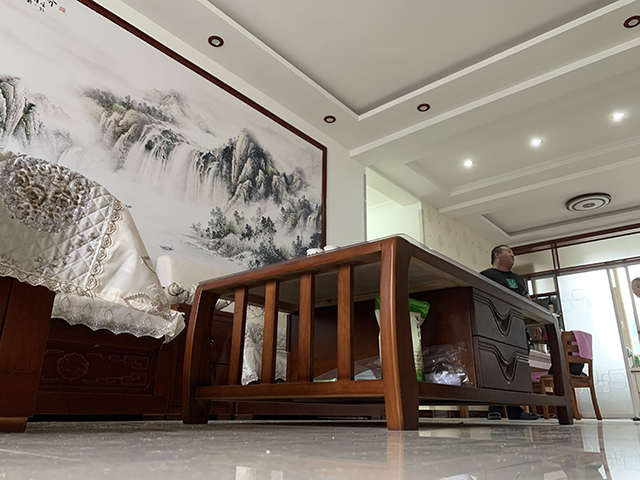sofa: (1, 150, 197, 432)
stool: (535, 329, 603, 421)
table: (180, 232, 575, 432)
